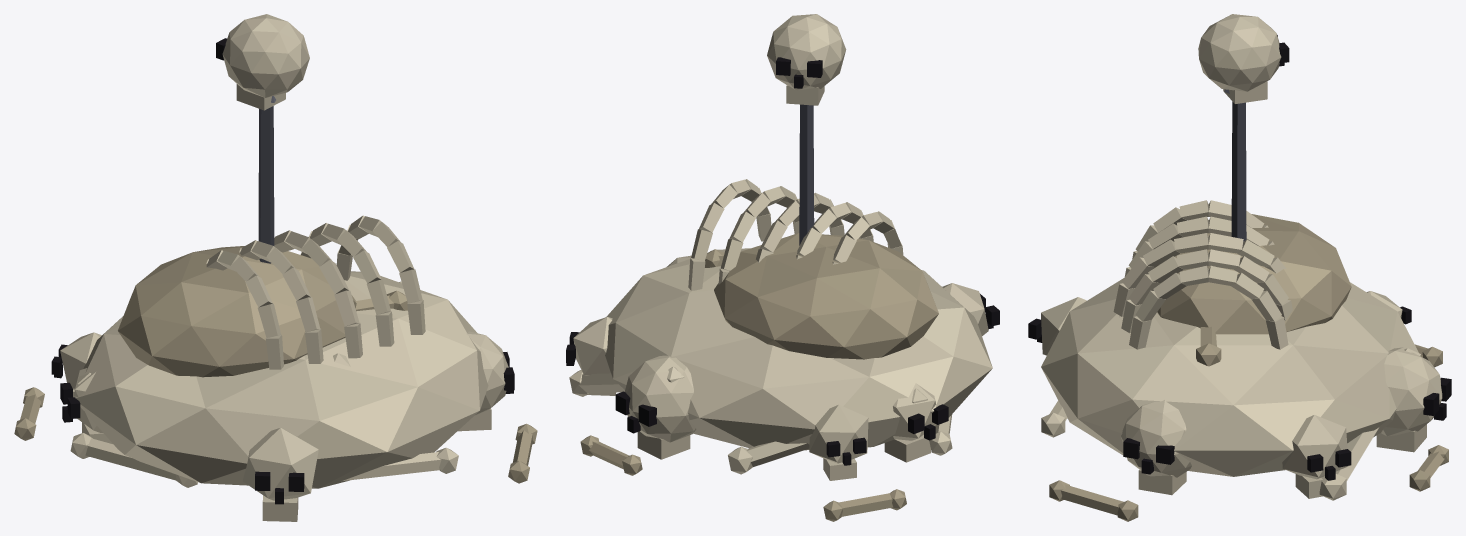
The model's file is Decor_HellGate_BoneHeap.fbx.
The picture shows the model from 3 angles, left to right: view 1: azimuth 30°, elevation 25°; view 2: azimuth 150°, elevation 25°; view 3: azimuth 270°, elevation 25°; orthographic projection. The views are drawn at different scales.
Visible parts, largest first — view 1: BoneHeap_Body; view 2: BoneHeap_Body; view 3: BoneHeap_Body.
Part boxes in pixels (x1,y1,x2,y2): BoneHeap_Body: (14, 14, 537, 521); BoneHeap_Body: (566, 14, 999, 521); BoneHeap_Body: (1028, 14, 1451, 521).
Size of the model in its own units: 14 by 14.8 by 13.78.
